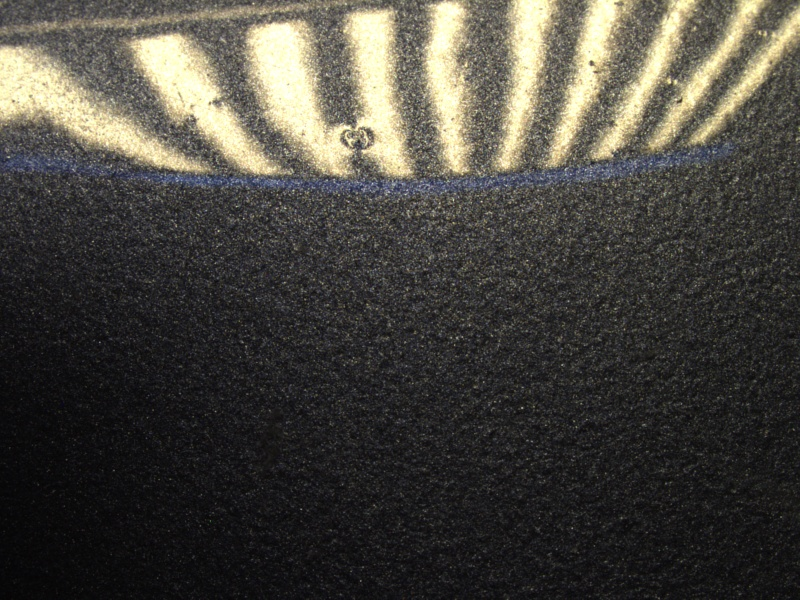bad: (329, 116, 383, 161)
